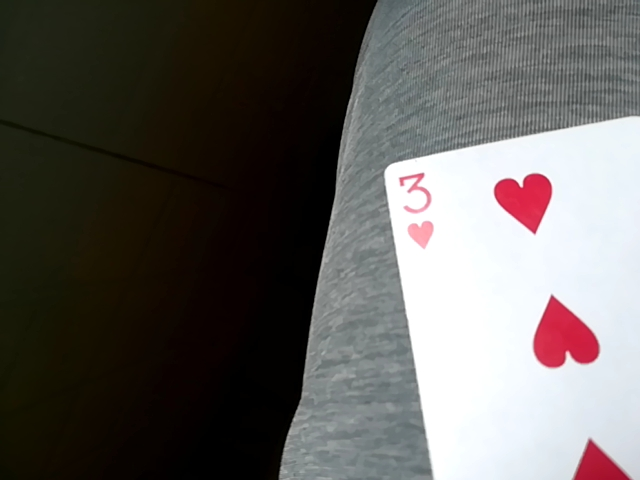hx 3: (377, 95, 640, 475)
